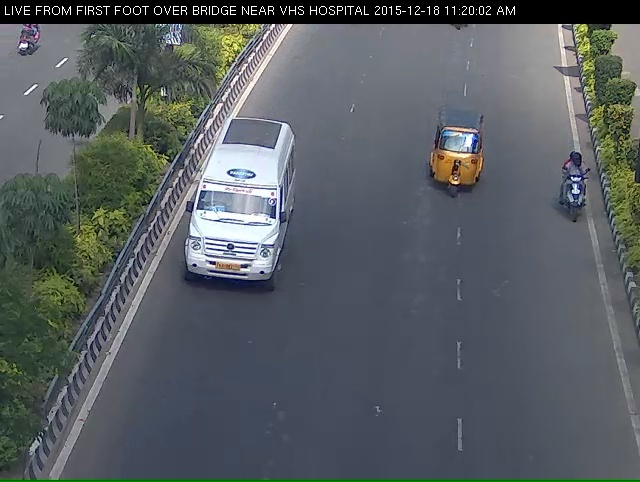Auto: (427, 112, 488, 201)
Bus: (178, 115, 286, 310)
Person: (557, 144, 597, 226)
